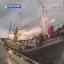fishing boat: (4, 0, 64, 64)
